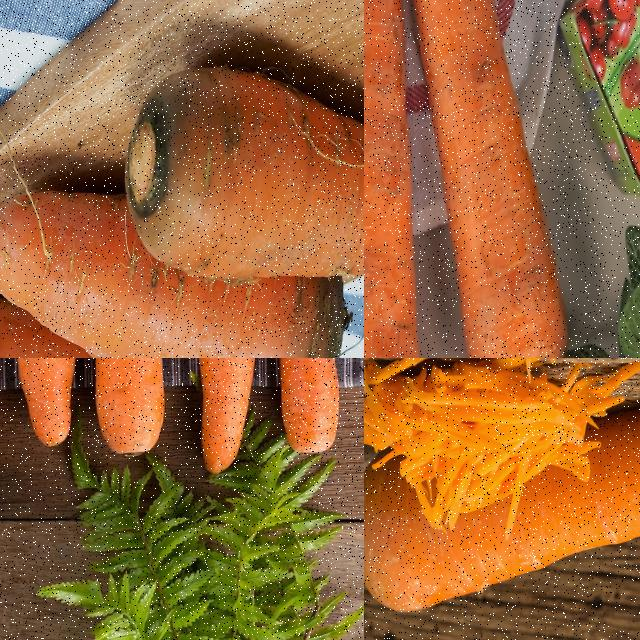carrot: (364, 358, 639, 620), (389, 0, 567, 357), (0, 179, 353, 357), (129, 62, 363, 281), (364, 0, 424, 357), (0, 280, 186, 357), (181, 358, 264, 473), (3, 358, 86, 447), (91, 358, 164, 459), (269, 358, 339, 453)
